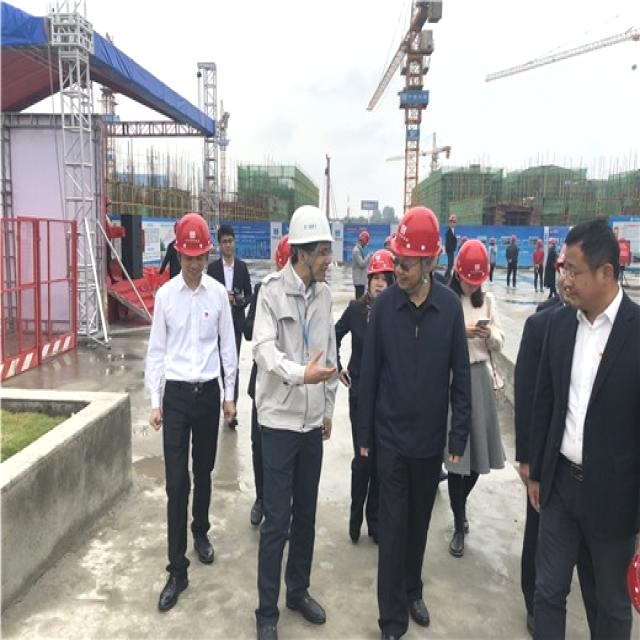Con_Casco: (391, 205, 443, 285), (287, 203, 333, 282), (175, 215, 212, 281)
Sin_Casco_Mascarrilla: (561, 215, 621, 307)
